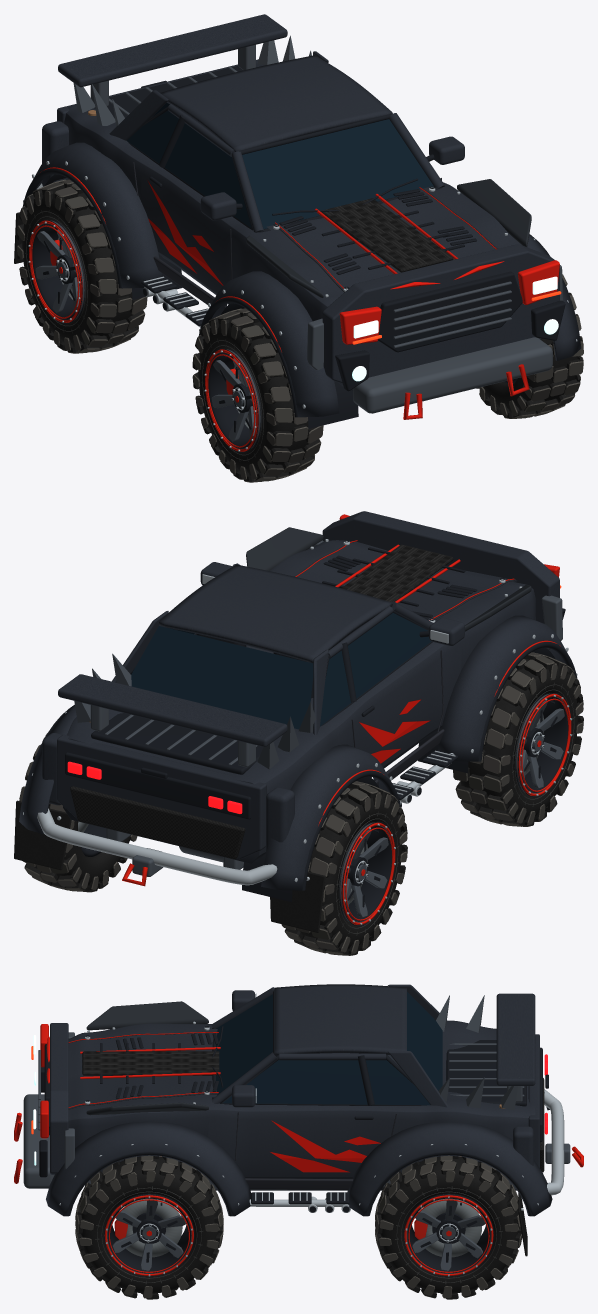
Rendered from 10_charcoal_rally.glb.
3 views of the same model, one above another, from view 1: azimuth 30°, elevation 25°; view 2: azimuth 150°, elevation 25°; view 3: azimuth 270°, elevation 25° (orthographic). The views are drawn at different scales.
Parts seen in each view (by area): view 1: Buggy_Static_Body, Wheel_FL_Geometry, Wheel_RL_Geometry, Wheel_FR_Geometry; view 2: Buggy_Static_Body, Wheel_FL_Geometry, Wheel_RL_Geometry, Wheel_RR_Geometry; view 3: Buggy_Static_Body, Wheel_FR_Geometry, Wheel_RR_Geometry.
Part boxes in pixels (x1,y1,x2,y2): Buggy_Static_Body: (14, 14, 581, 428); Wheel_FL_Geometry: (192, 308, 323, 482); Wheel_RL_Geometry: (16, 179, 147, 353); Wheel_FR_Geometry: (476, 274, 583, 418); Buggy_Static_Body: (14, 511, 577, 932); Wheel_FL_Geometry: (453, 652, 583, 826); Wheel_RL_Geometry: (281, 781, 407, 955); Wheel_RR_Geometry: (19, 733, 137, 892); Buggy_Static_Body: (14, 984, 583, 1256); Wheel_FR_Geometry: (75, 1155, 223, 1299); Wheel_RR_Geometry: (375, 1155, 522, 1299).
Bounding box in the file's own units: 2.99 × 2.35 × 5.44.
24 materials, 4 textured.
